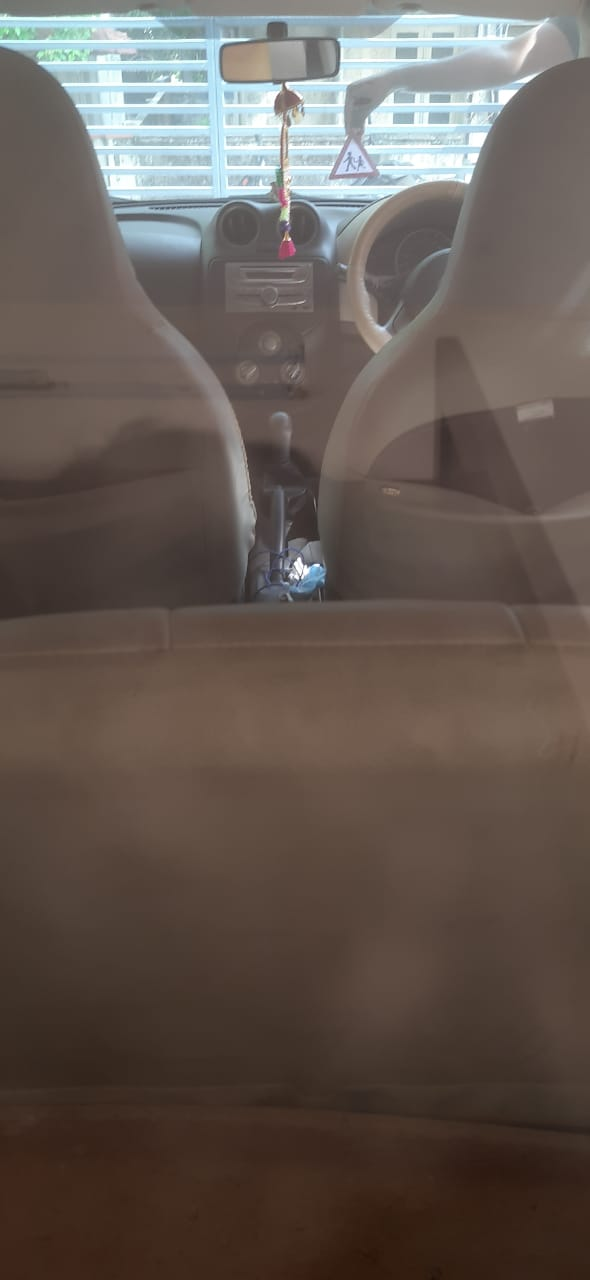SCHOOL ZONE: (318, 138, 394, 191)
